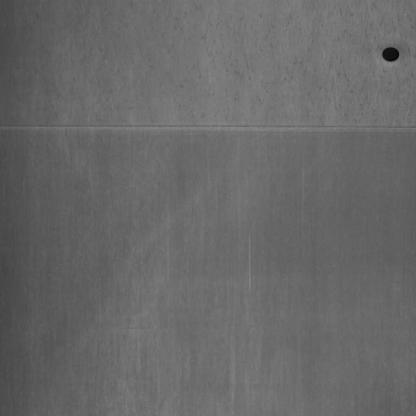punching_hole: (381, 44, 401, 68)
welding_line: (1, 116, 414, 139)
